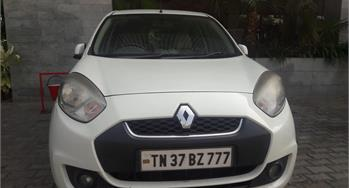T: (150, 153, 159, 170)
